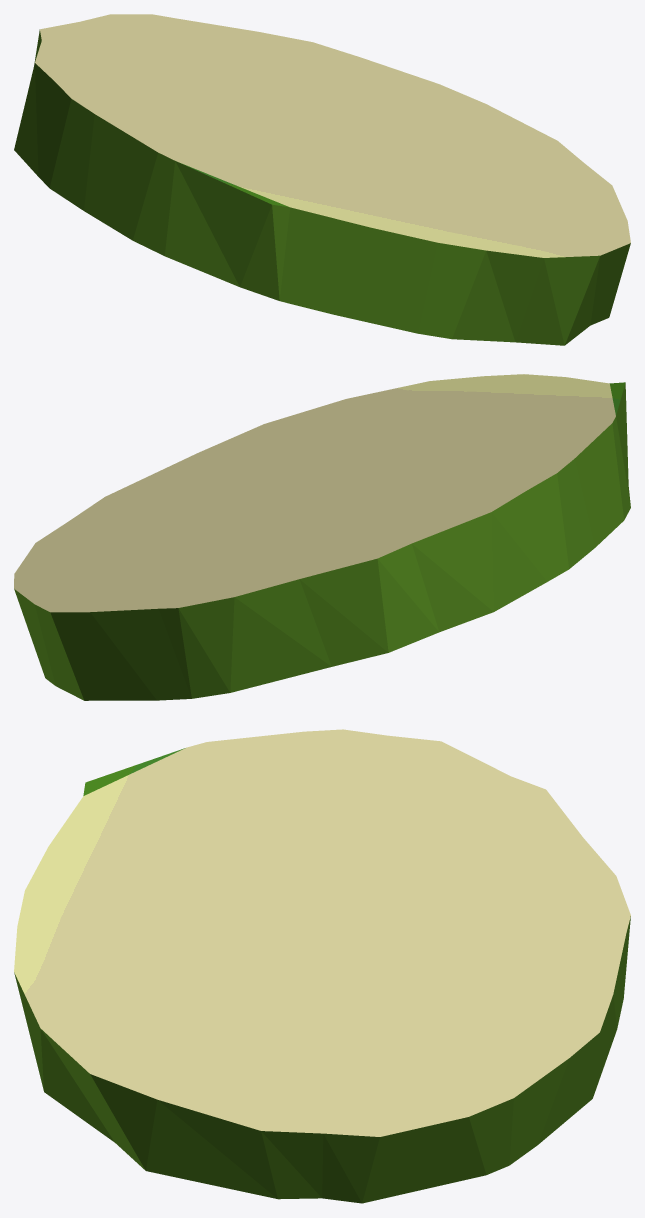
File: cucumber-02.glb
3 views of the same model, one above another, from view 1: azimuth 30°, elevation 25°; view 2: azimuth 150°, elevation 25°; view 3: azimuth 270°, elevation 25° (orthographic). The views are drawn at different scales.
Parts seen in each view (by area): view 1: world; view 2: world; view 3: world.
Part boxes in pixels (left/top/right/bottom): world: left=14, top=14, right=630, bottom=345; world: left=14, top=374, right=630, bottom=700; world: left=14, top=729, right=630, bottom=1203.
Bounding box in the file's own units: 0.0388 × 0.0187 × 0.0414.
Materials: 1 (1 with a texture image).
